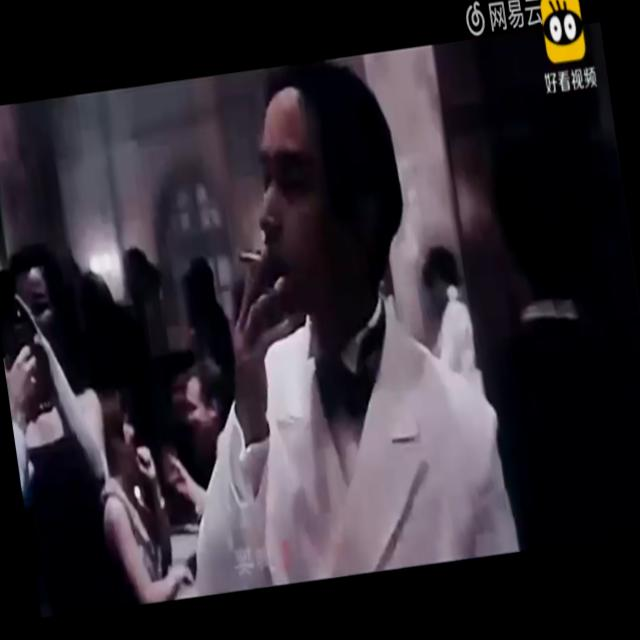cigarette: (237, 240, 270, 276)
